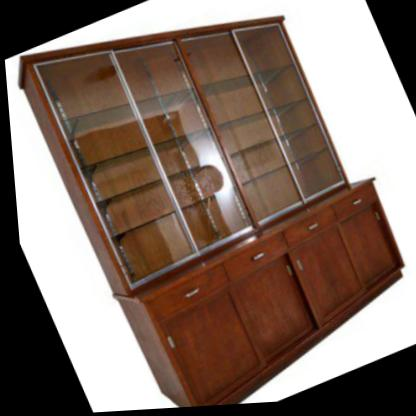Cabinet: (96, 175, 416, 412)
